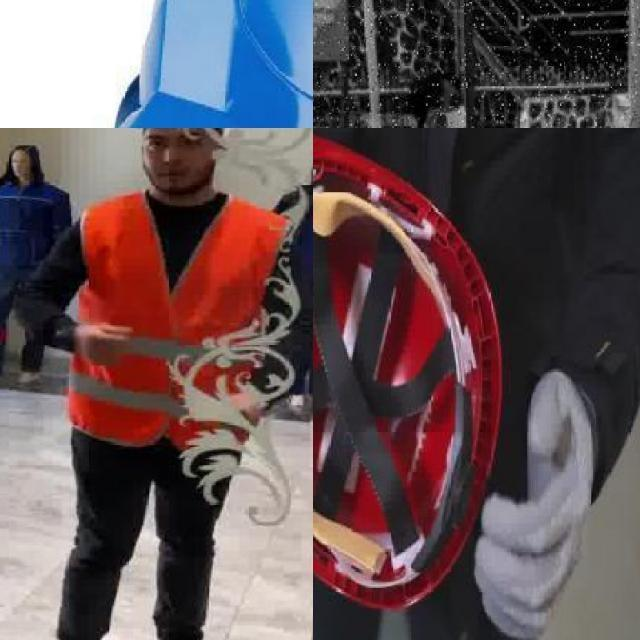apron: (470, 365, 594, 640)
